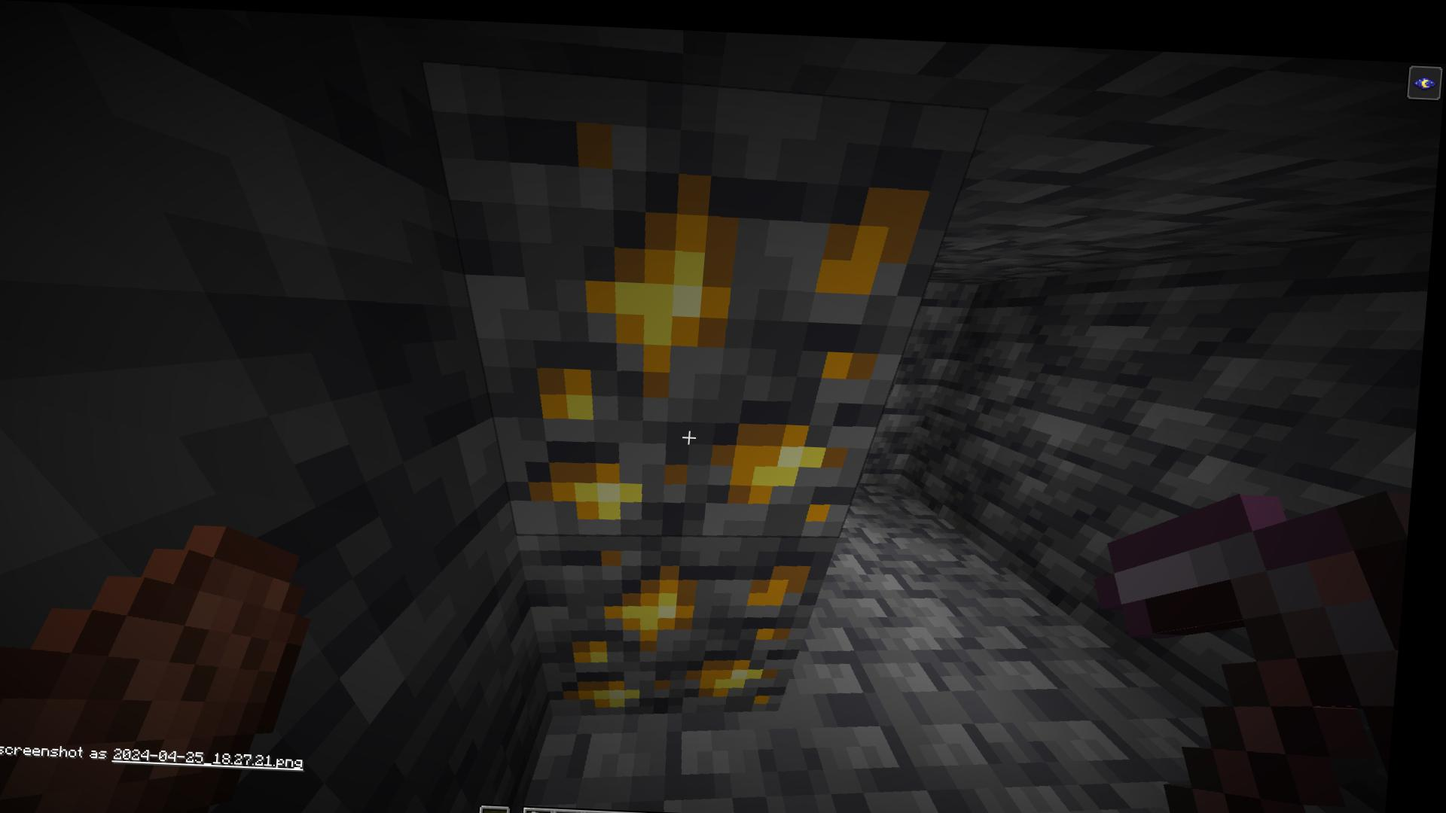gold ore: (400, 55, 998, 541), (513, 524, 841, 718)
